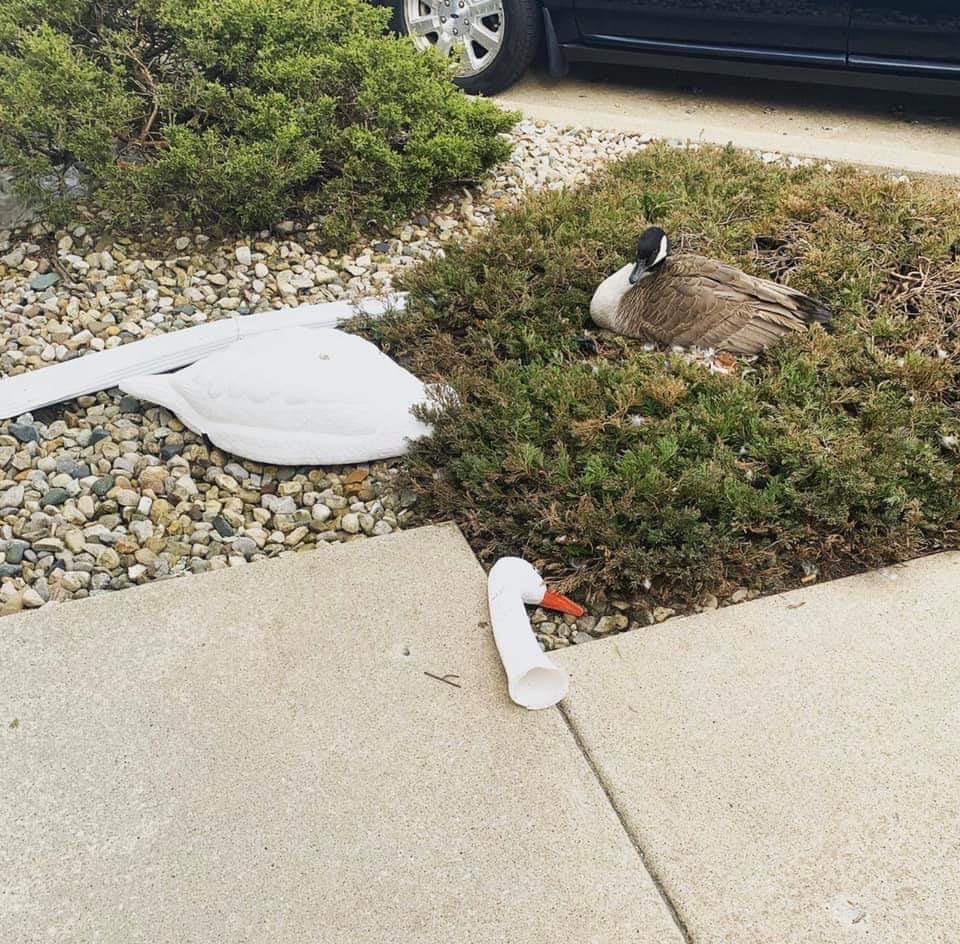goose: (583, 225, 837, 370)
